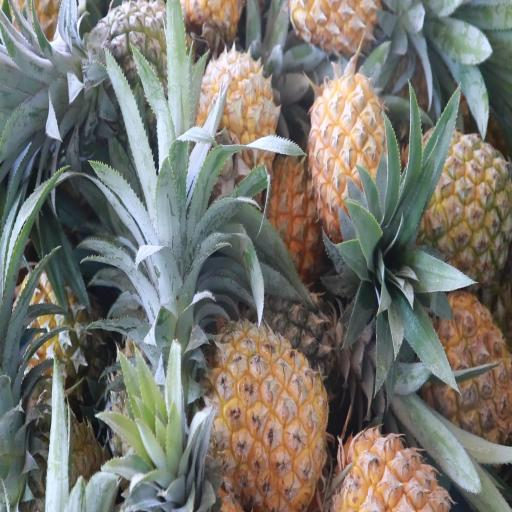Pineapple - v8 v1: (213, 318, 325, 512), (419, 288, 512, 442), (420, 132, 511, 282), (312, 76, 394, 242), (334, 423, 453, 512), (200, 58, 277, 190)
